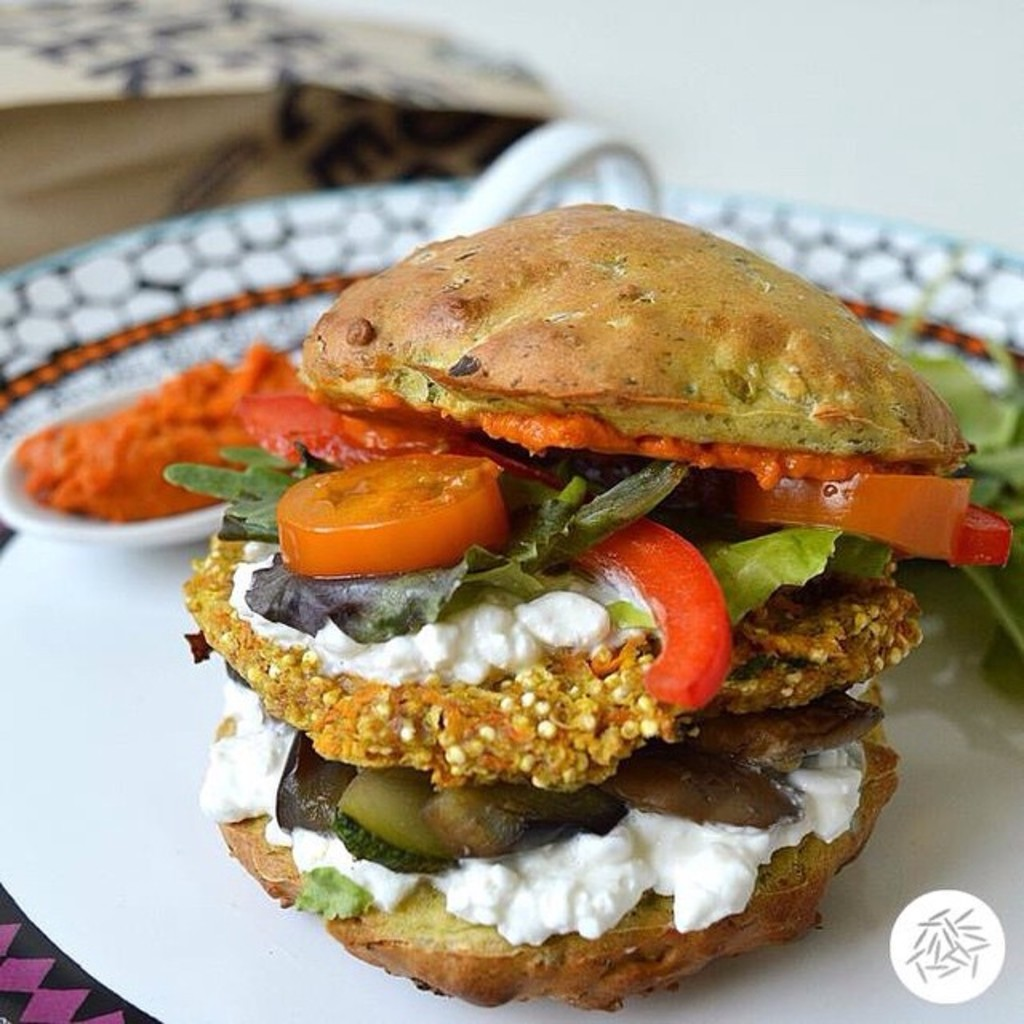Hamburger: (155, 196, 998, 1009)
